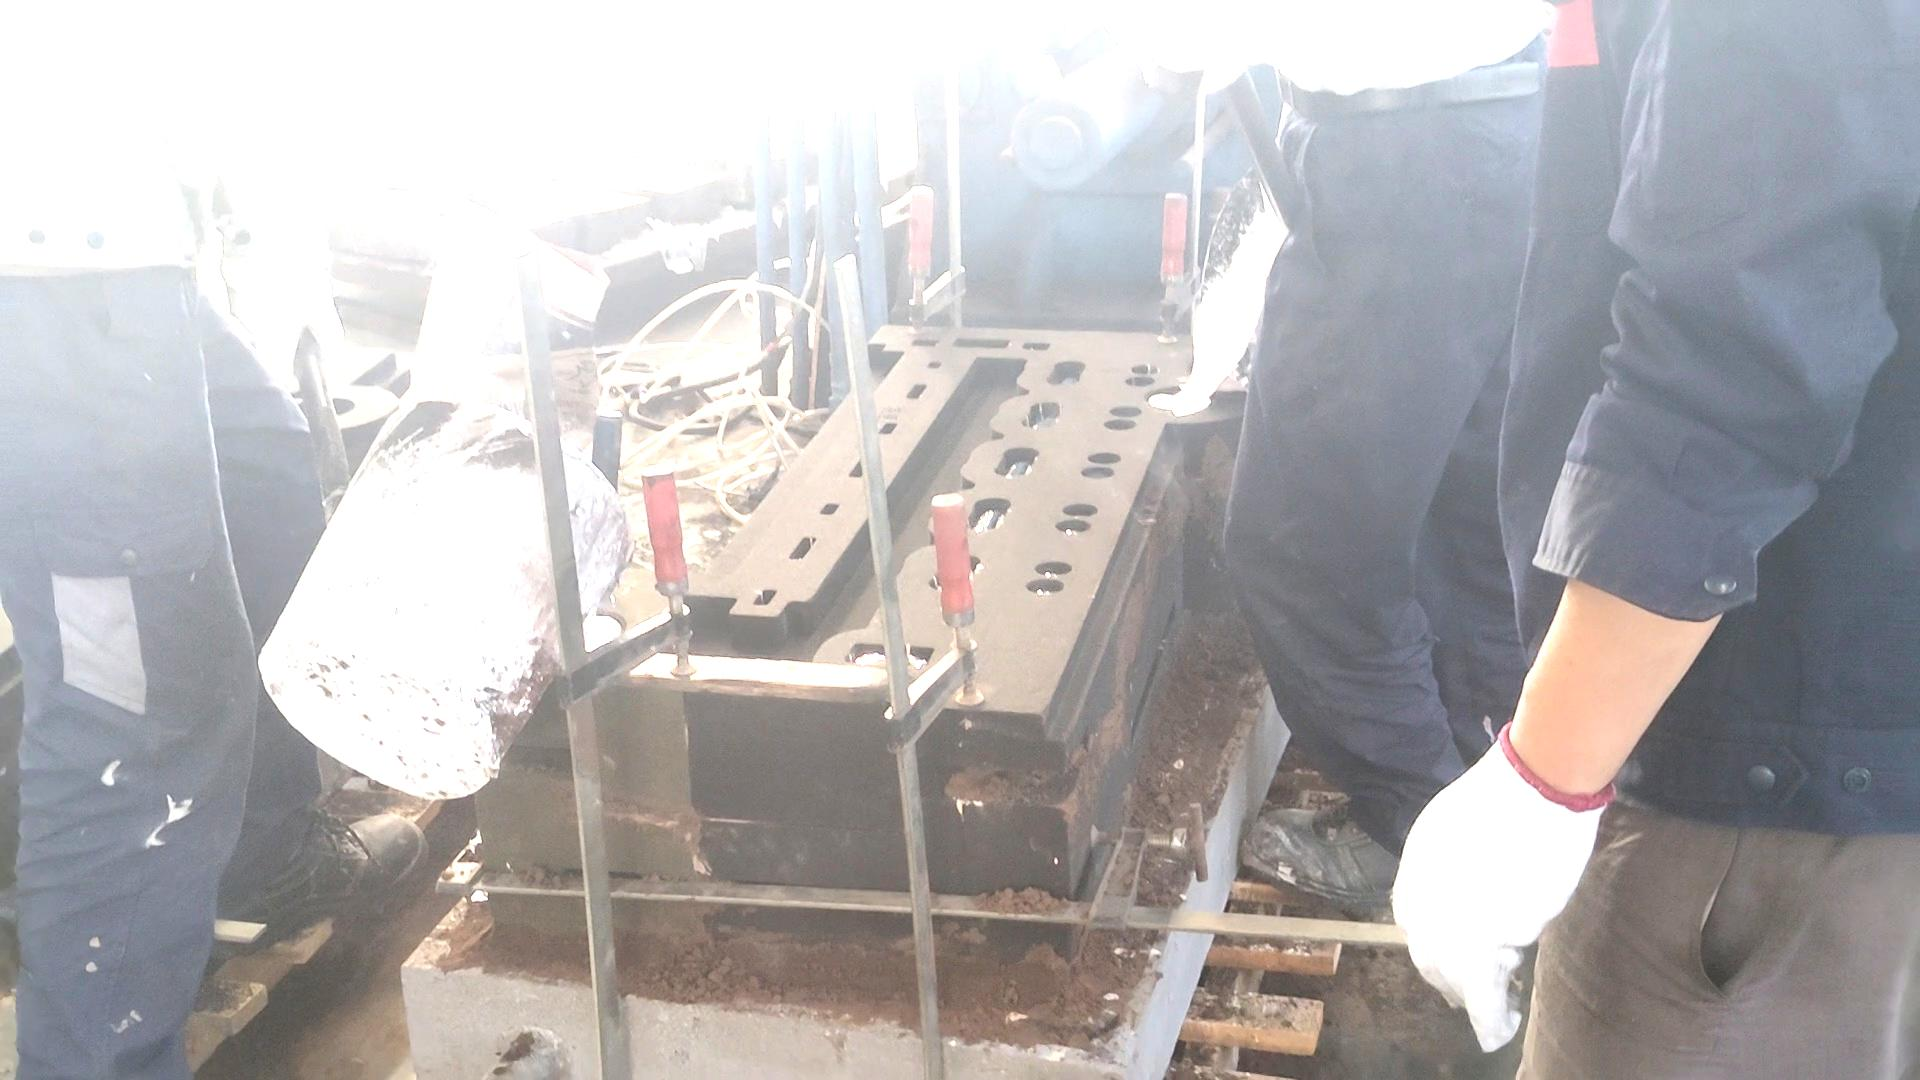pouring hole: (549, 609, 626, 661), (1145, 384, 1212, 413), (291, 393, 355, 422)
